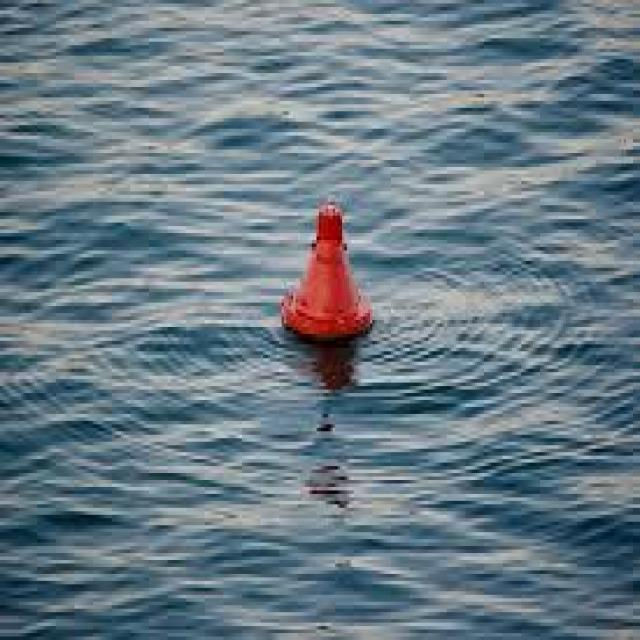buoy: (282, 200, 376, 342)
